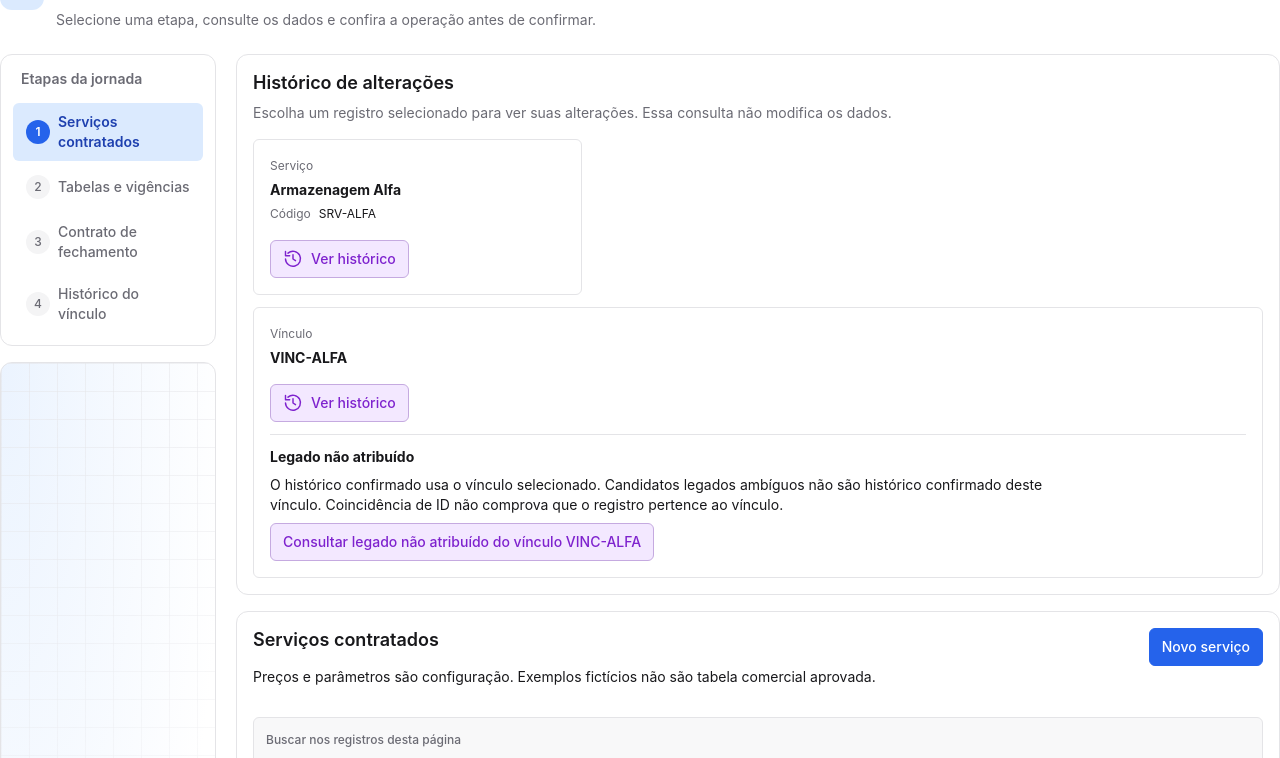
it: abre a consulta correta pelo cartão {}
The width and height of the screenshot is (1280, 758).
Expected: the button "Novo serviço" is shown, [1149,628,1263,666]
What coordinates should you click on to do the following:
click the button "Consultar legado não atribuído do vínculo VINC-ALFA"
I would click on:
 (462, 542)
Its box is [270,523,654,561].
(page scrolled)
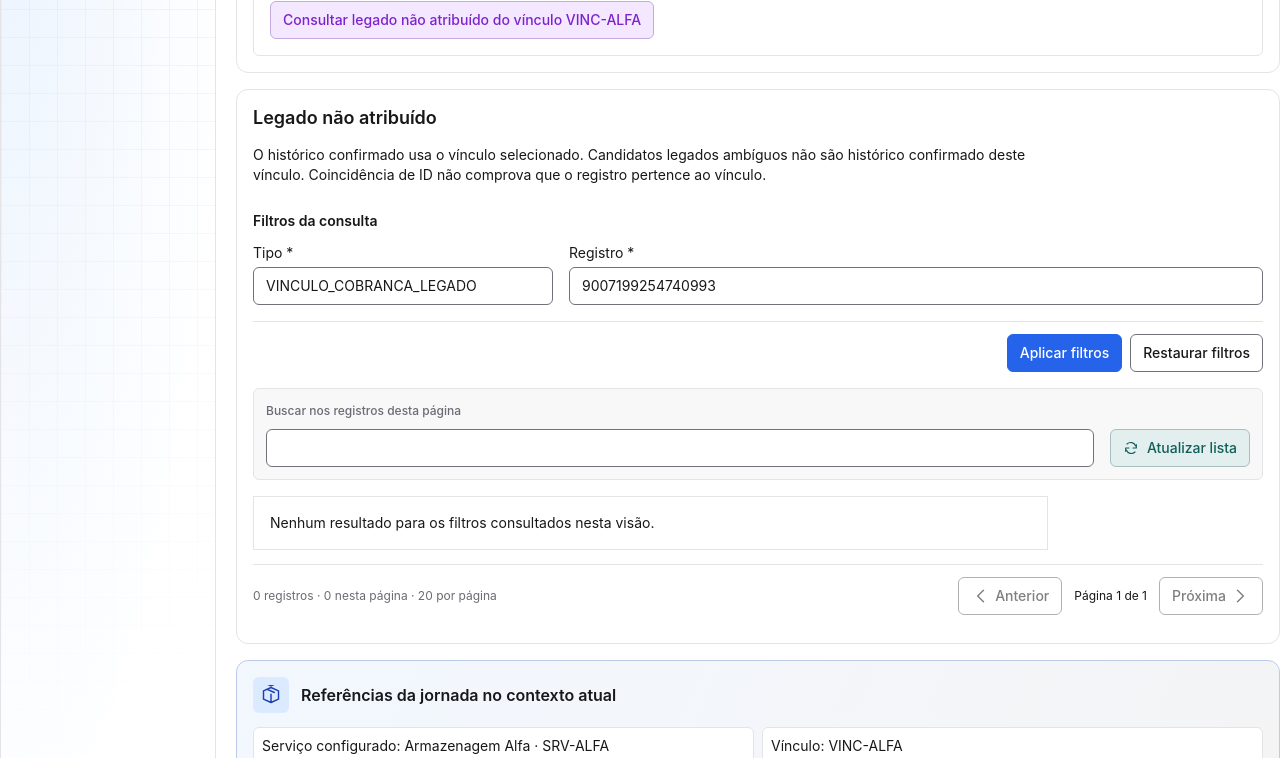
Result: the field labelled "Tipo *" holds "VINCULO_COBRANCA_LEGADO" at [253,267,553,305]
Result: the element "Legado não atribuído" is shown at [236,89,1279,644]
